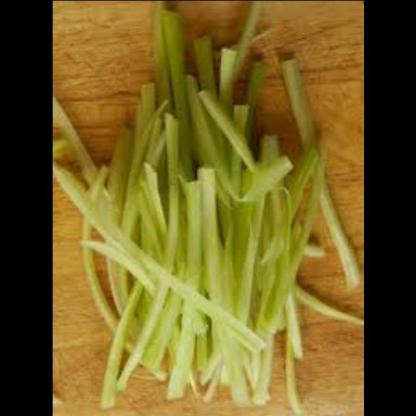celery: (52, 6, 353, 411)
